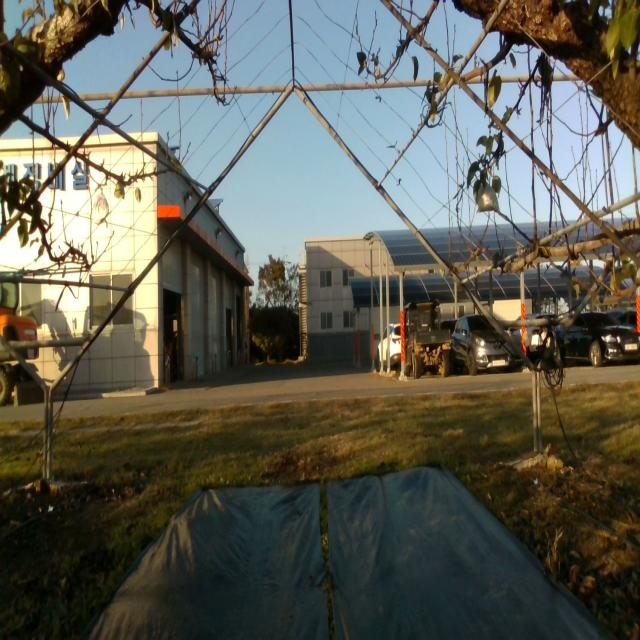pearbags: (474, 181, 500, 215), (92, 193, 109, 225)
